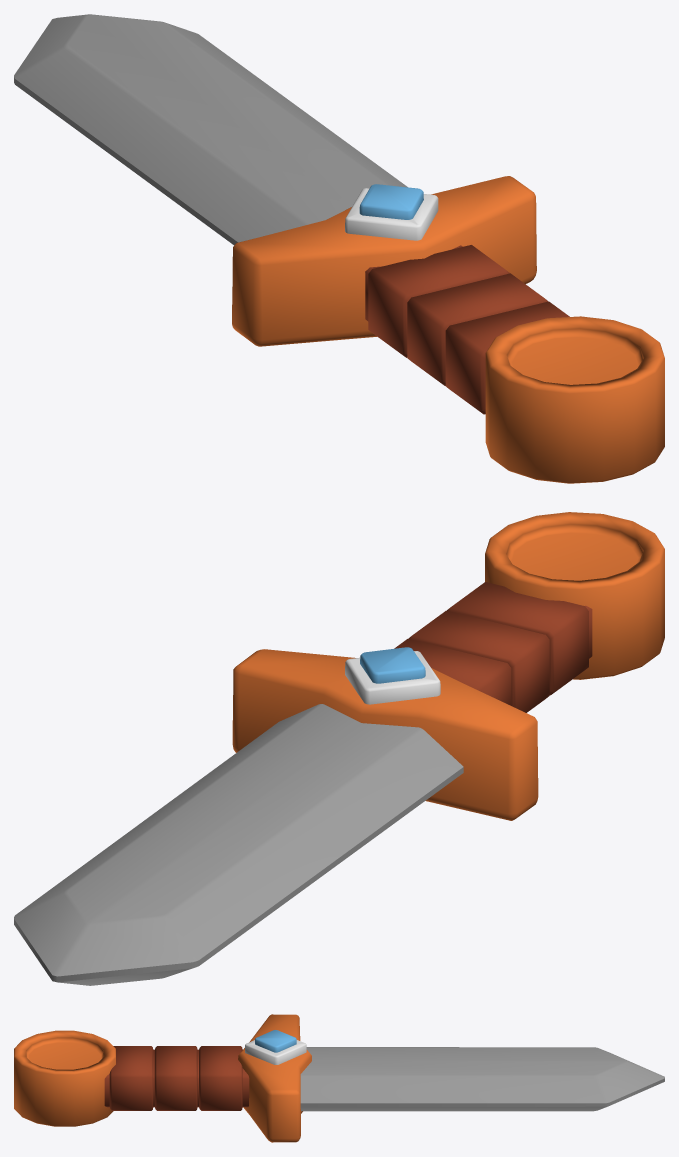
The model's file is Sword1.fbx.
3 renders of one model, top to bottom at view 1: azimuth 30°, elevation 25°; view 2: azimuth 150°, elevation 25°; view 3: azimuth 270°, elevation 25°, orthographic. The views are drawn at different scales.
Parts seen in each view (by area): view 1: Cube.005; view 2: Cube.005; view 3: Cube.005.
Boxes of the visible parts, bbox=[...] form: Cube.005: bbox=[14, 14, 664, 483]; Cube.005: bbox=[14, 512, 664, 985]; Cube.005: bbox=[14, 1014, 664, 1142].
Bounding box in the file's own units: 186 × 73.47 × 639.
